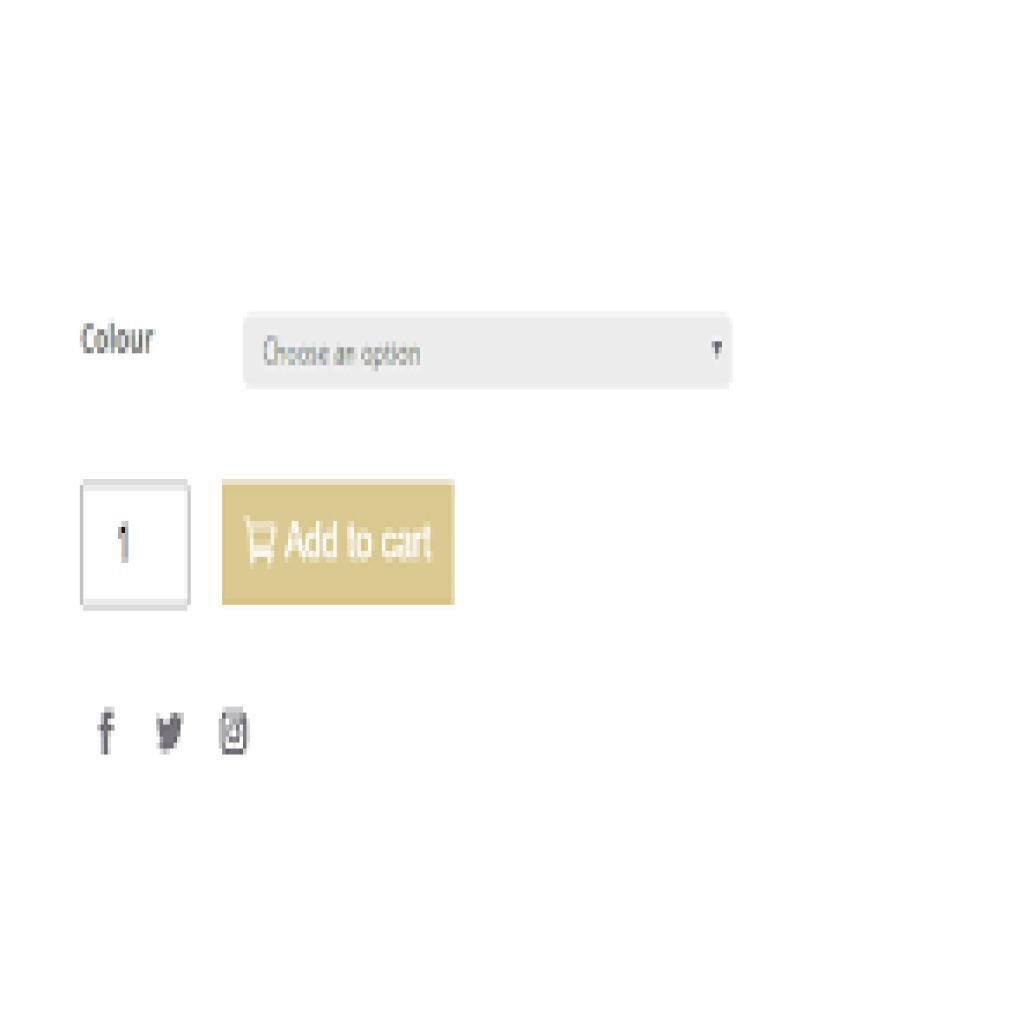button: (222, 487, 454, 604)
dropdown: (241, 317, 736, 387)
icon: (152, 705, 195, 767), (217, 705, 256, 772), (95, 705, 123, 767)
input: (82, 484, 190, 610)
label: (80, 316, 158, 370)
